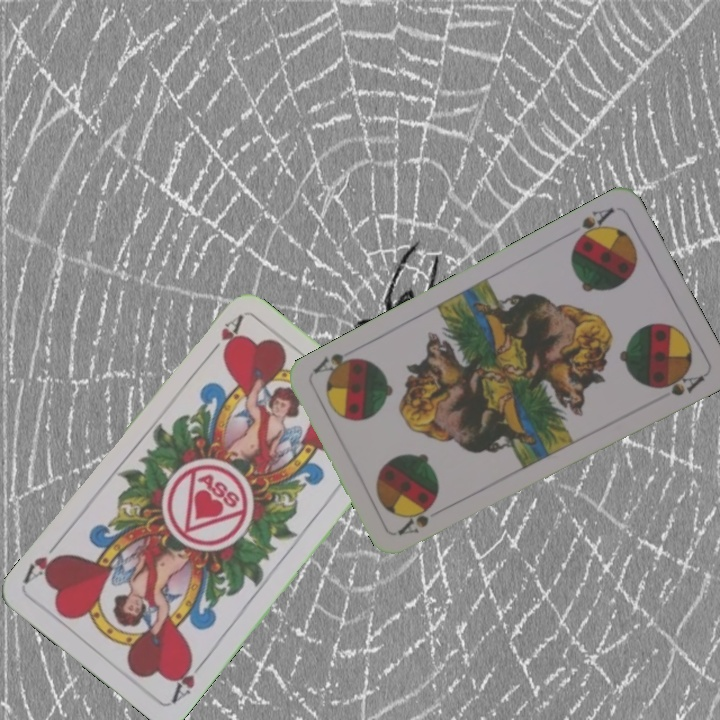HA: (167, 652, 209, 706), (202, 311, 246, 362)
SA: (569, 203, 617, 248), (394, 510, 432, 538)
